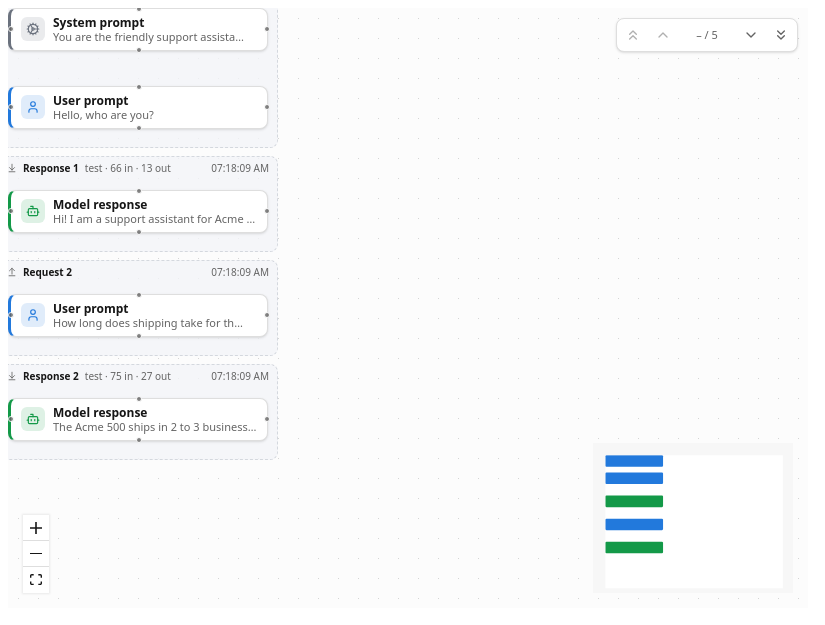
Test: navigation and side panel › steps through nodes with the control and the arrow keys
Click the button named "Next node".
click(751, 35)  # box left=737, top=21, right=765, bottom=49
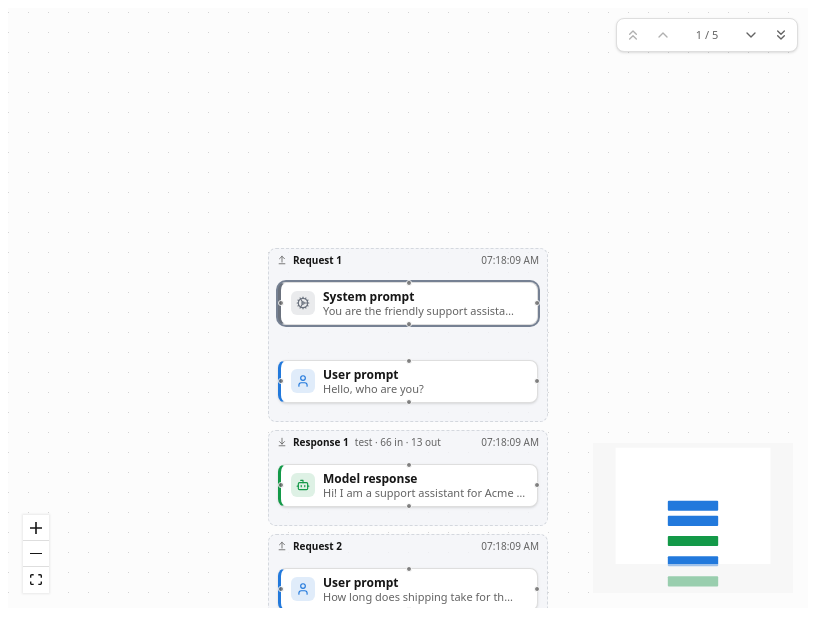
Click the button named "Last node".
click(781, 35)  # box left=767, top=21, right=795, bottom=49
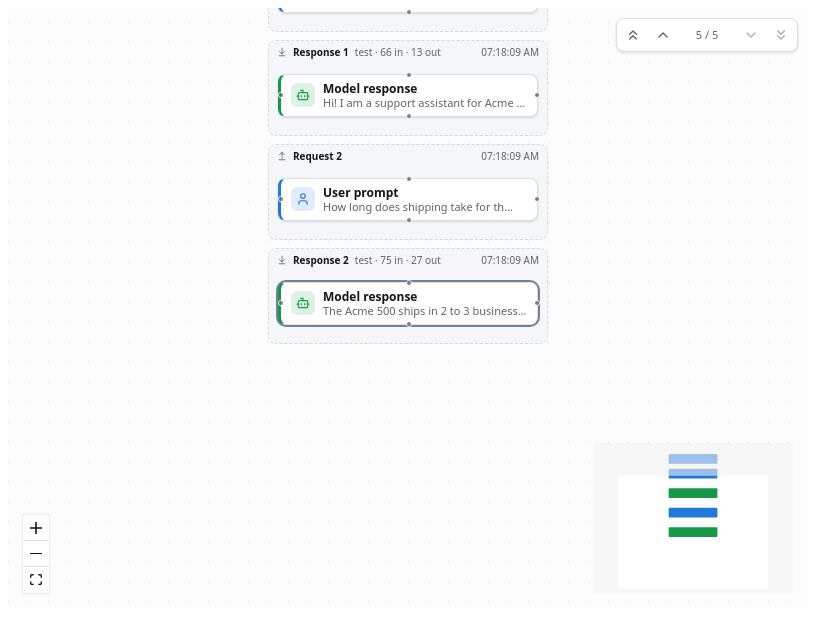
Press Home in the element named "Mini Map"
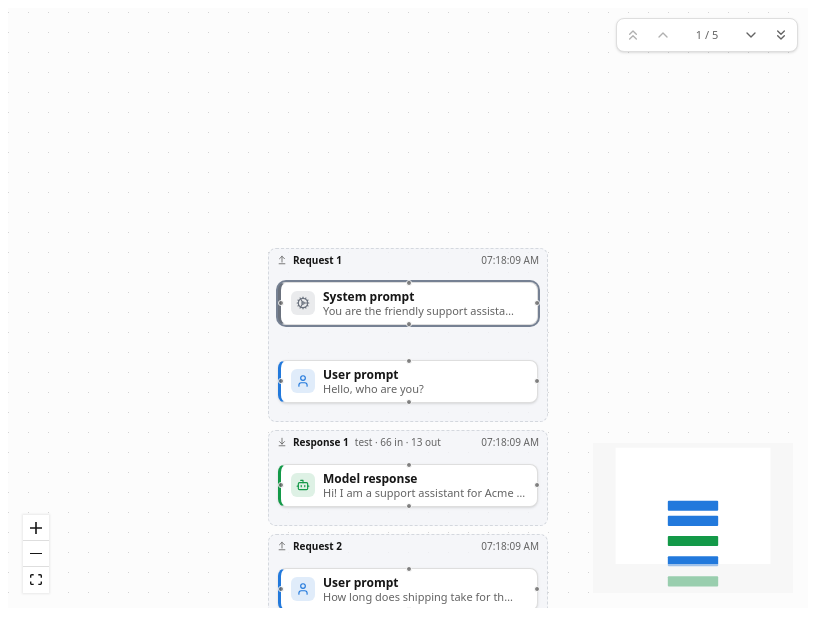
Spatial: the user prompt sits directly below the system prompt.
Press ArrowDown in the element named "Mini Map"
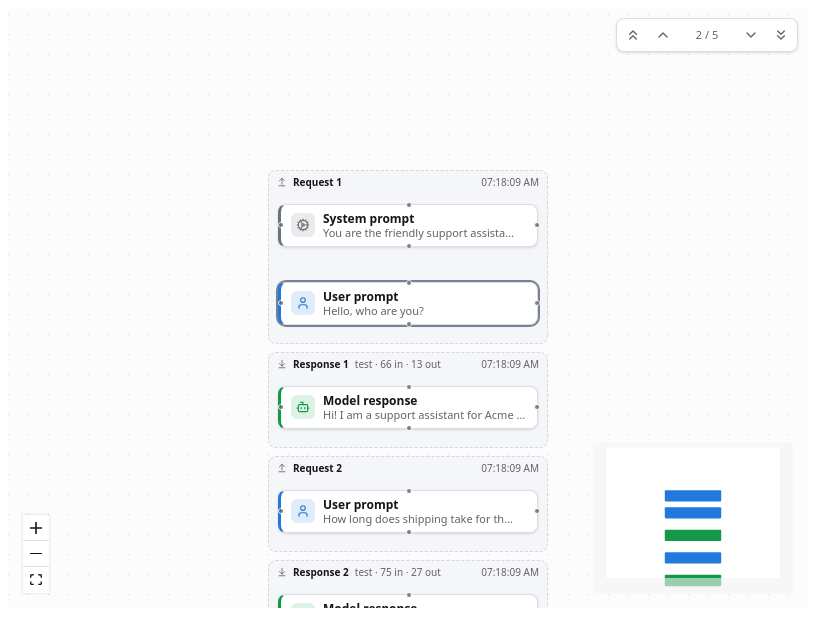
Press ArrowUp in the element named "Mini Map"
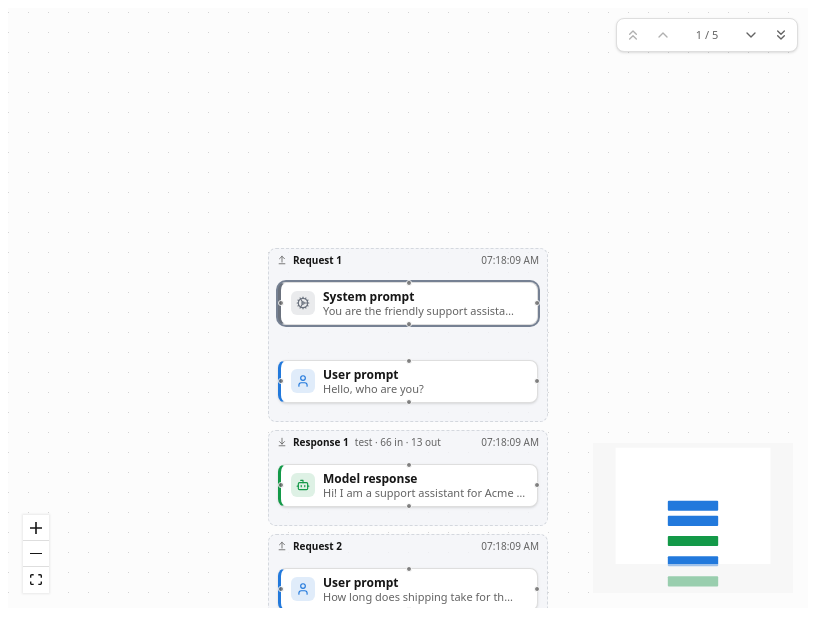
Check: the button with class "tm-node-active" is shown, box left=278, top=282, right=538, bottom=325
